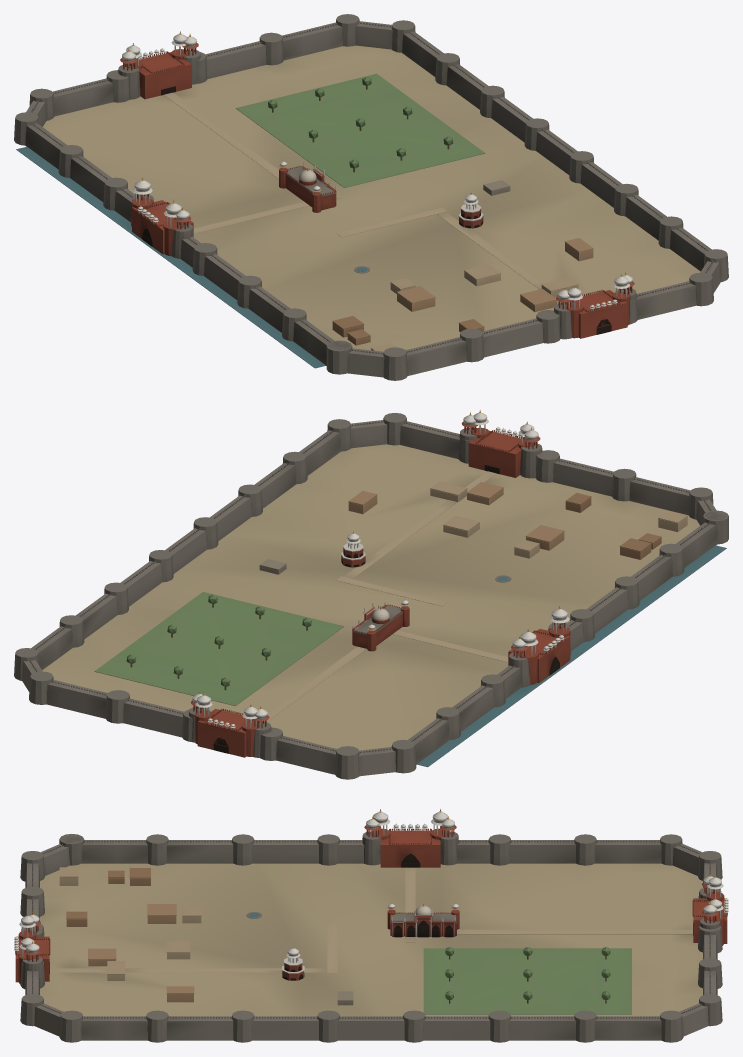
Rendered from purana-qila.glb.
The picture shows the model from 3 angles, top to bottom: view 1: azimuth 30°, elevation 25°; view 2: azimuth 150°, elevation 25°; view 3: azimuth 270°, elevation 25°; orthographic projection. The views are drawn at different scales.
Parts seen in each view (by area): view 1: p0_walls, p3_grounds, p1_gates, p2_mosque and library; view 2: p0_walls, p3_grounds, p1_gates, p2_mosque and library; view 3: p0_walls, p3_grounds, p1_gates, p2_mosque and library.
Part boxes in pixels (x1,y1,x2,y2): p0_walls: [14, 14, 728, 380]; p3_grounds: [235, 73, 593, 351]; p1_gates: [118, 31, 637, 339]; p2_mosque and library: [279, 160, 510, 273]; p0_walls: [14, 413, 728, 779]; p3_grounds: [94, 481, 687, 705]; p1_gates: [189, 410, 570, 757]; p2_mosque and library: [259, 531, 511, 651]; p0_walls: [20, 834, 722, 1042]; p3_grounds: [59, 867, 631, 1014]; p1_gates: [14, 809, 728, 989]; p2_mosque and library: [246, 903, 459, 1005].
Size of the model in its own units: 344 by 43.15 by 549.
